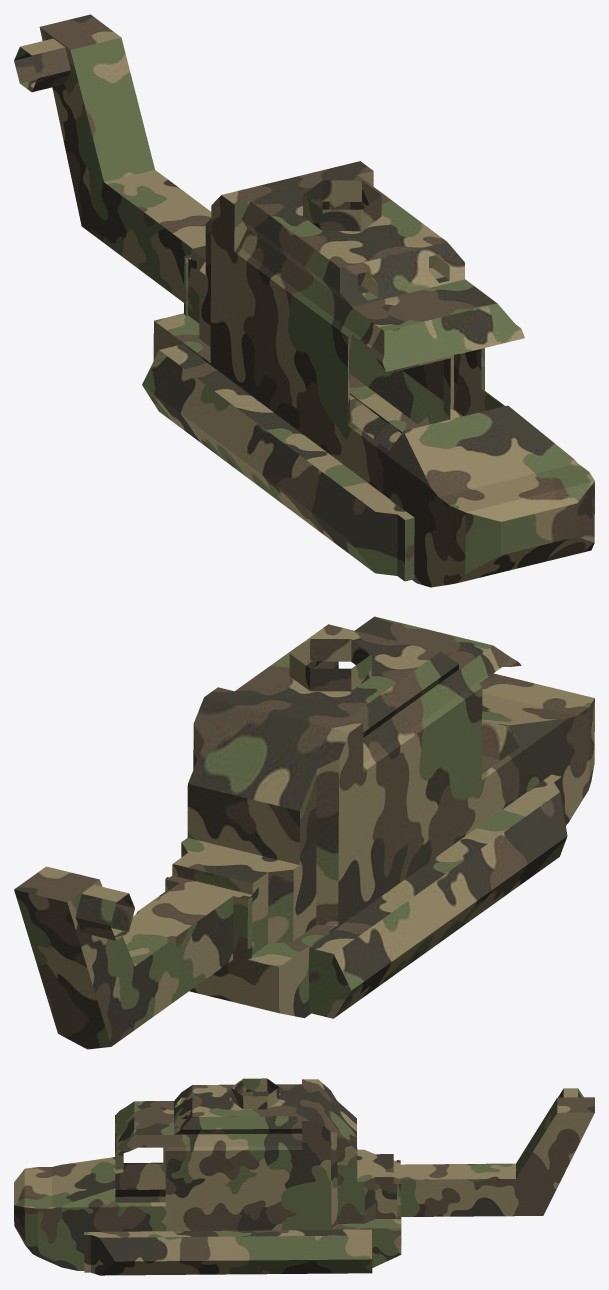
Rendered from Helicopter_bodyobj.obj.
3 renders of one model, top to bottom at view 1: azimuth 30°, elevation 25°; view 2: azimuth 150°, elevation 25°; view 3: azimuth 270°, elevation 25°, orthographic. The views are drawn at different scales.
Visible parts, largest first — view 1: Elicopter_Complet; view 2: Elicopter_Complet; view 3: Elicopter_Complet.
Part boxes in pixels (<box>): Elicopter_Complet: <box>14,14,594,587</box>; Elicopter_Complet: <box>14,616,594,1049</box>; Elicopter_Complet: <box>14,1078,594,1275</box>.
Bounding box in the file's own units: 3.61 × 4.48 × 13.72.
